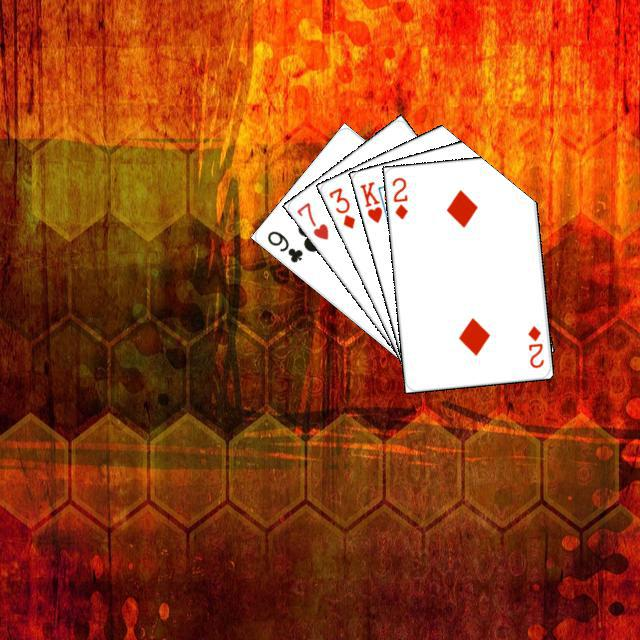2d: (387, 172, 410, 221), (523, 321, 545, 370)
3d: (324, 182, 357, 230)
7h: (291, 197, 330, 242)
9c: (262, 226, 305, 264)
Kh: (355, 176, 391, 226)
